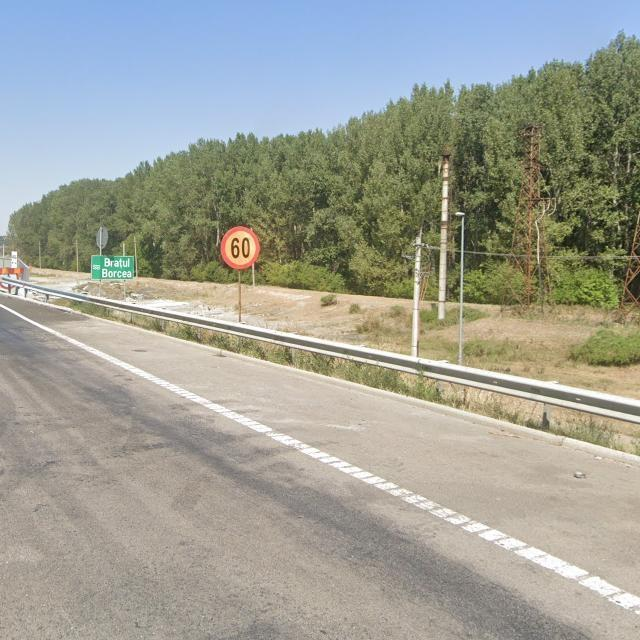forb_speed_over_60: (221, 227, 260, 270)
